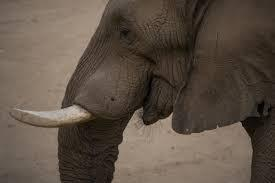elephant: (10, 0, 274, 182)
